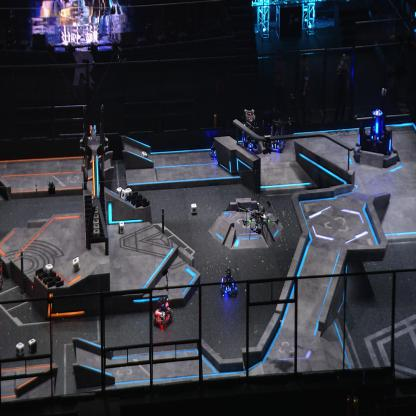car: (241, 110, 262, 153), (153, 295, 173, 330), (267, 116, 286, 152), (220, 270, 238, 298), (209, 134, 226, 160)
